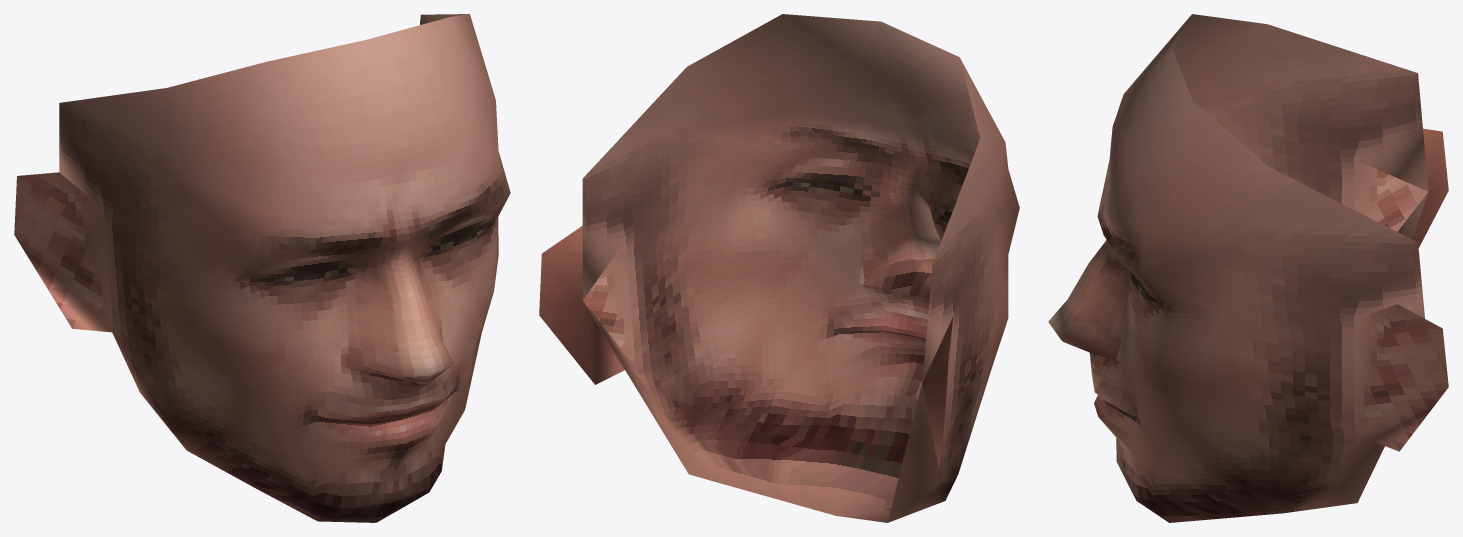
3 views of the same model, side by side, from view 1: azimuth 30°, elevation 25°; view 2: azimuth 150°, elevation 25°; view 3: azimuth 270°, elevation 25° (orthographic). The views are drawn at different scales.
Parts seen in each view (by area): view 1: editpl_m-0000-118, editpl_m-0000-117; view 2: editpl_m-0000-118, editpl_m-0000-117; view 3: editpl_m-0000-118, editpl_m-0000-117.
Boxes of the visible parts, x1,y1,x2,y2 form: editpl_m-0000-118: [14, 14, 510, 451]; editpl_m-0000-117: [112, 332, 472, 522]; editpl_m-0000-118: [539, 14, 1019, 467]; editpl_m-0000-117: [583, 251, 991, 522]; editpl_m-0000-118: [1048, 14, 1448, 460]; editpl_m-0000-117: [1062, 193, 1427, 522].
Bounding box in the file's own units: 17.18 × 18.64 × 14.77.
Materials: 1 (1 with a texture image).
